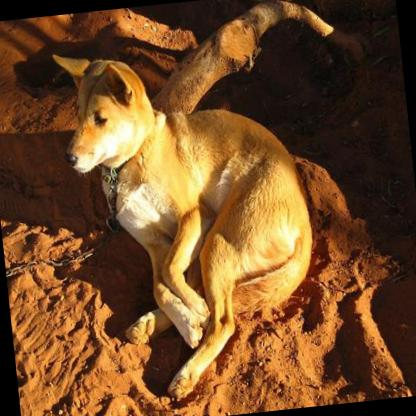dingo: (50, 27, 326, 412)
